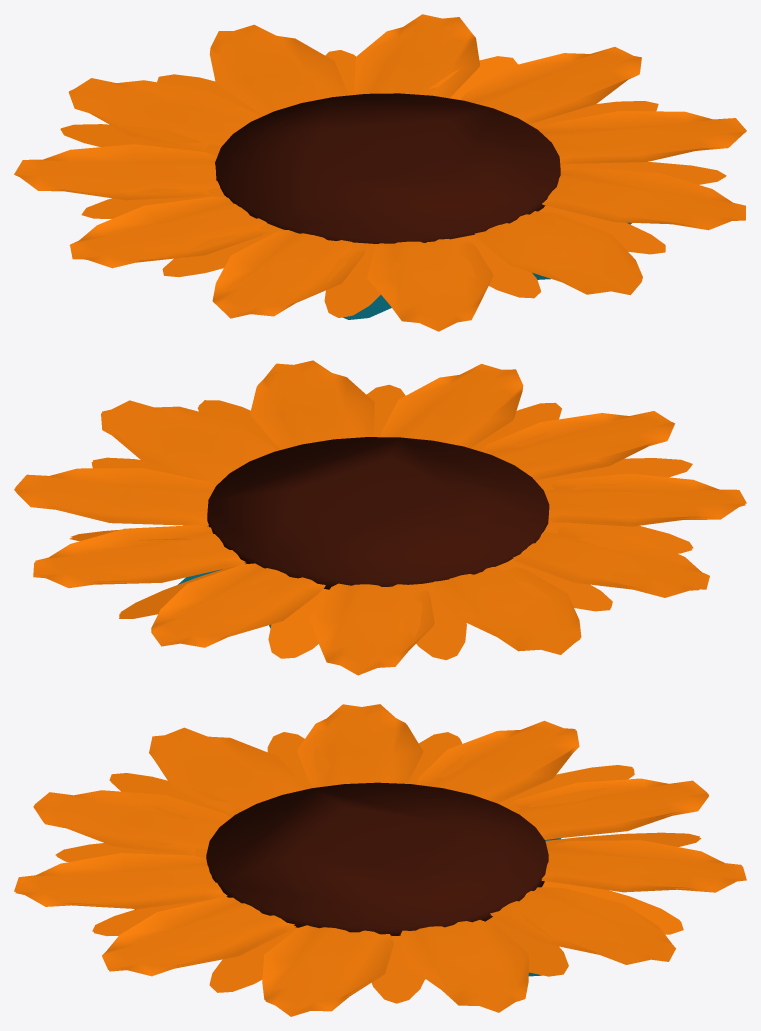
File: Sunflower Stemless.fbx
3 renders of one model, top to bottom at view 1: azimuth 30°, elevation 25°; view 2: azimuth 150°, elevation 25°; view 3: azimuth 270°, elevation 25°, orthographic.
Parts seen in each view (by area): view 1: Flowerstem; view 2: Flowerstem; view 3: Flowerstem.
Part boxes in pixels (x1,y1,x2,y2): Flowerstem: (14, 14, 746, 331); Flowerstem: (14, 360, 746, 675); Flowerstem: (14, 704, 746, 1016).
Bounding box in the file's own units: 131 × 18.69 × 131.
